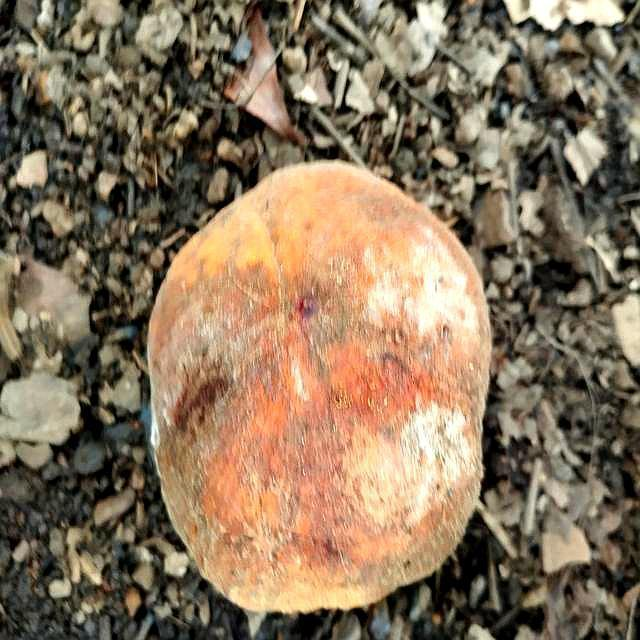Biodegradable: (141, 157, 495, 617)
